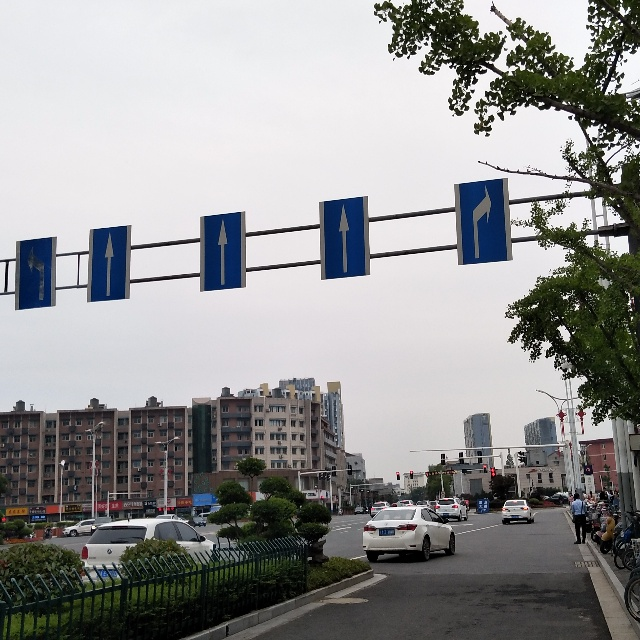left: (14, 237, 57, 311)
right: (455, 178, 513, 266)
straight: (319, 196, 371, 280), (200, 211, 247, 292), (88, 225, 131, 301)
